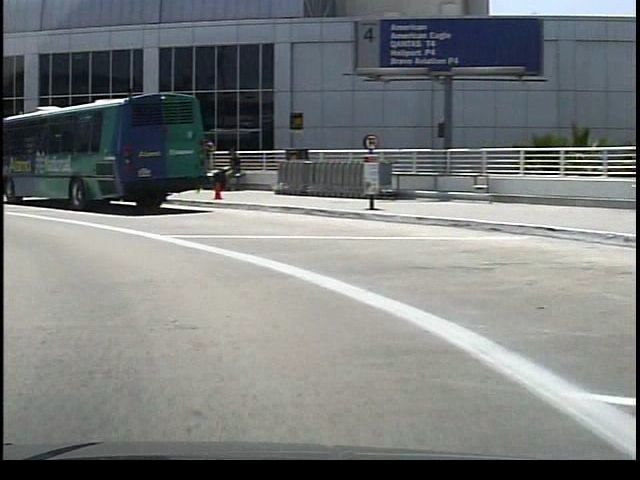person: (213, 145, 240, 192)
